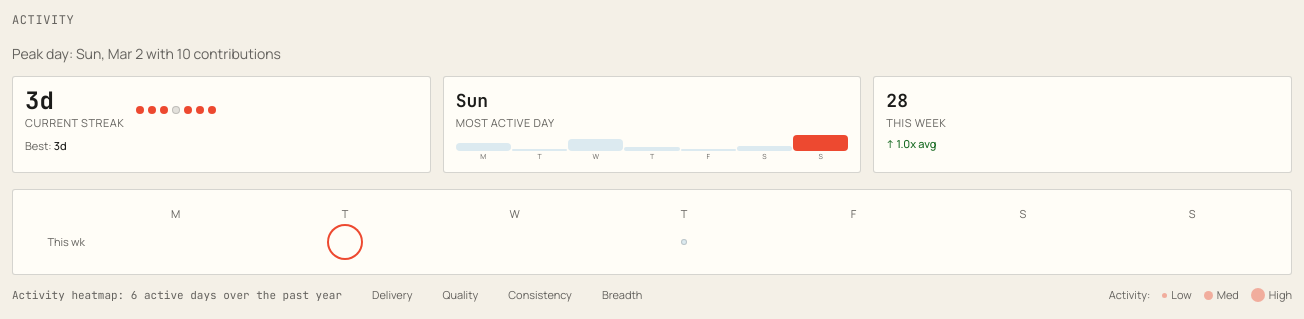
ActivityHeatmap › tooltip interactions › tooltip shows 'No activity' for zero-count day
Hover over the 4th element with class "cursor-pointer".
mouse_move(684, 242)  # box [681,239,687,245]
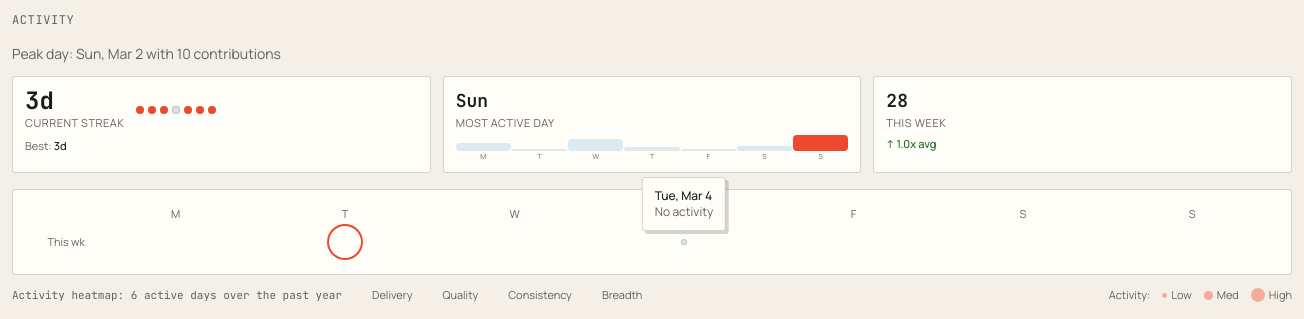
Now the tooltip "Tue, Mar 4 No activity" is shown, box [642,177,726,231]
